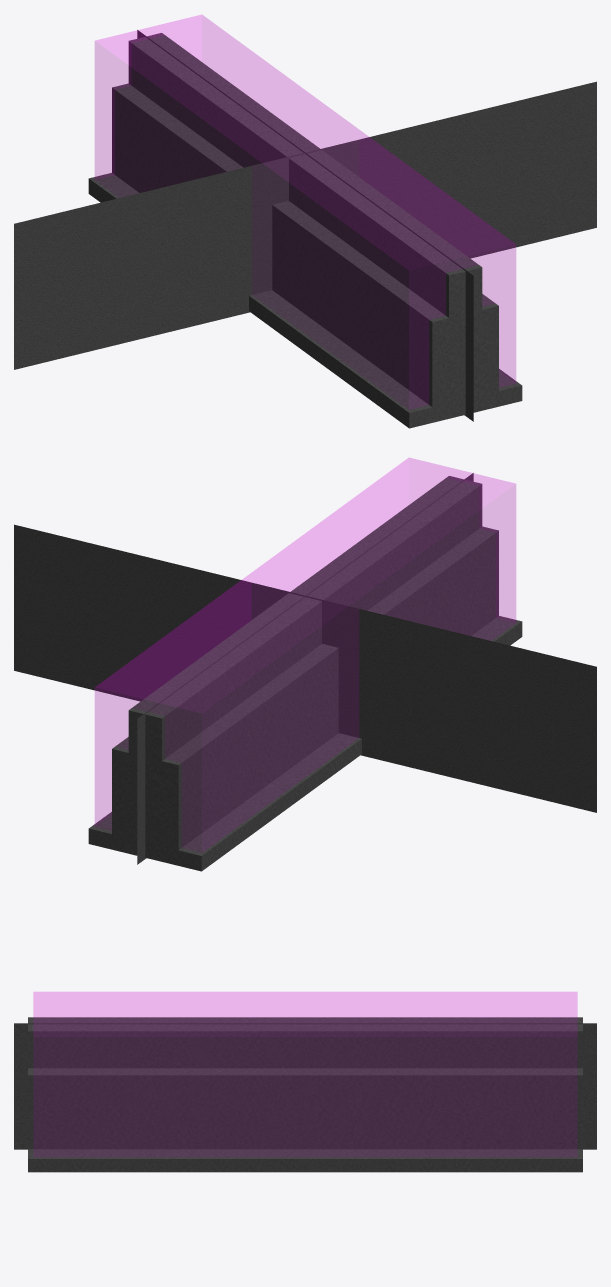
File: krail_dark_3m.dae
3 renders of one model, top to bottom at view 1: azimuth 30°, elevation 25°; view 2: azimuth 150°, elevation 25°; view 3: azimuth 270°, elevation 25°, orthographic. The views are drawn at different scales.
Visible parts, largest first — view 1: krail_dark_3m_a50, Colmesh_krail-1, krail_dark_3m_a800, krail_dark_3m_a200; view 2: krail_dark_3m_a50, Colmesh_krail-1, krail_dark_3m_a800, krail_dark_3m_a200; view 3: krail_dark_3m_a800, Colmesh_krail-1, krail_dark_3m_a200, krail_dark_3m_a50.
Part boxes in pixels (x1,y1,x2,y2): krail_dark_3m_a50: (14, 30, 596, 421); Colmesh_krail-1: (95, 15, 515, 408); krail_dark_3m_a800: (88, 33, 522, 428); krail_dark_3m_a200: (116, 175, 498, 407); krail_dark_3m_a50: (14, 473, 596, 864); Colmesh_krail-1: (95, 458, 515, 851); krail_dark_3m_a800: (88, 476, 522, 871); krail_dark_3m_a200: (112, 527, 498, 849); krail_dark_3m_a800: (28, 1017, 582, 1172); Colmesh_krail-1: (33, 992, 577, 1156); krail_dark_3m_a200: (28, 1068, 580, 1149); krail_dark_3m_a50: (14, 1023, 596, 1149).
Size of the model in its own units: 3.15 by 3.15 by 0.8074.
2 materials, 1 textured.
